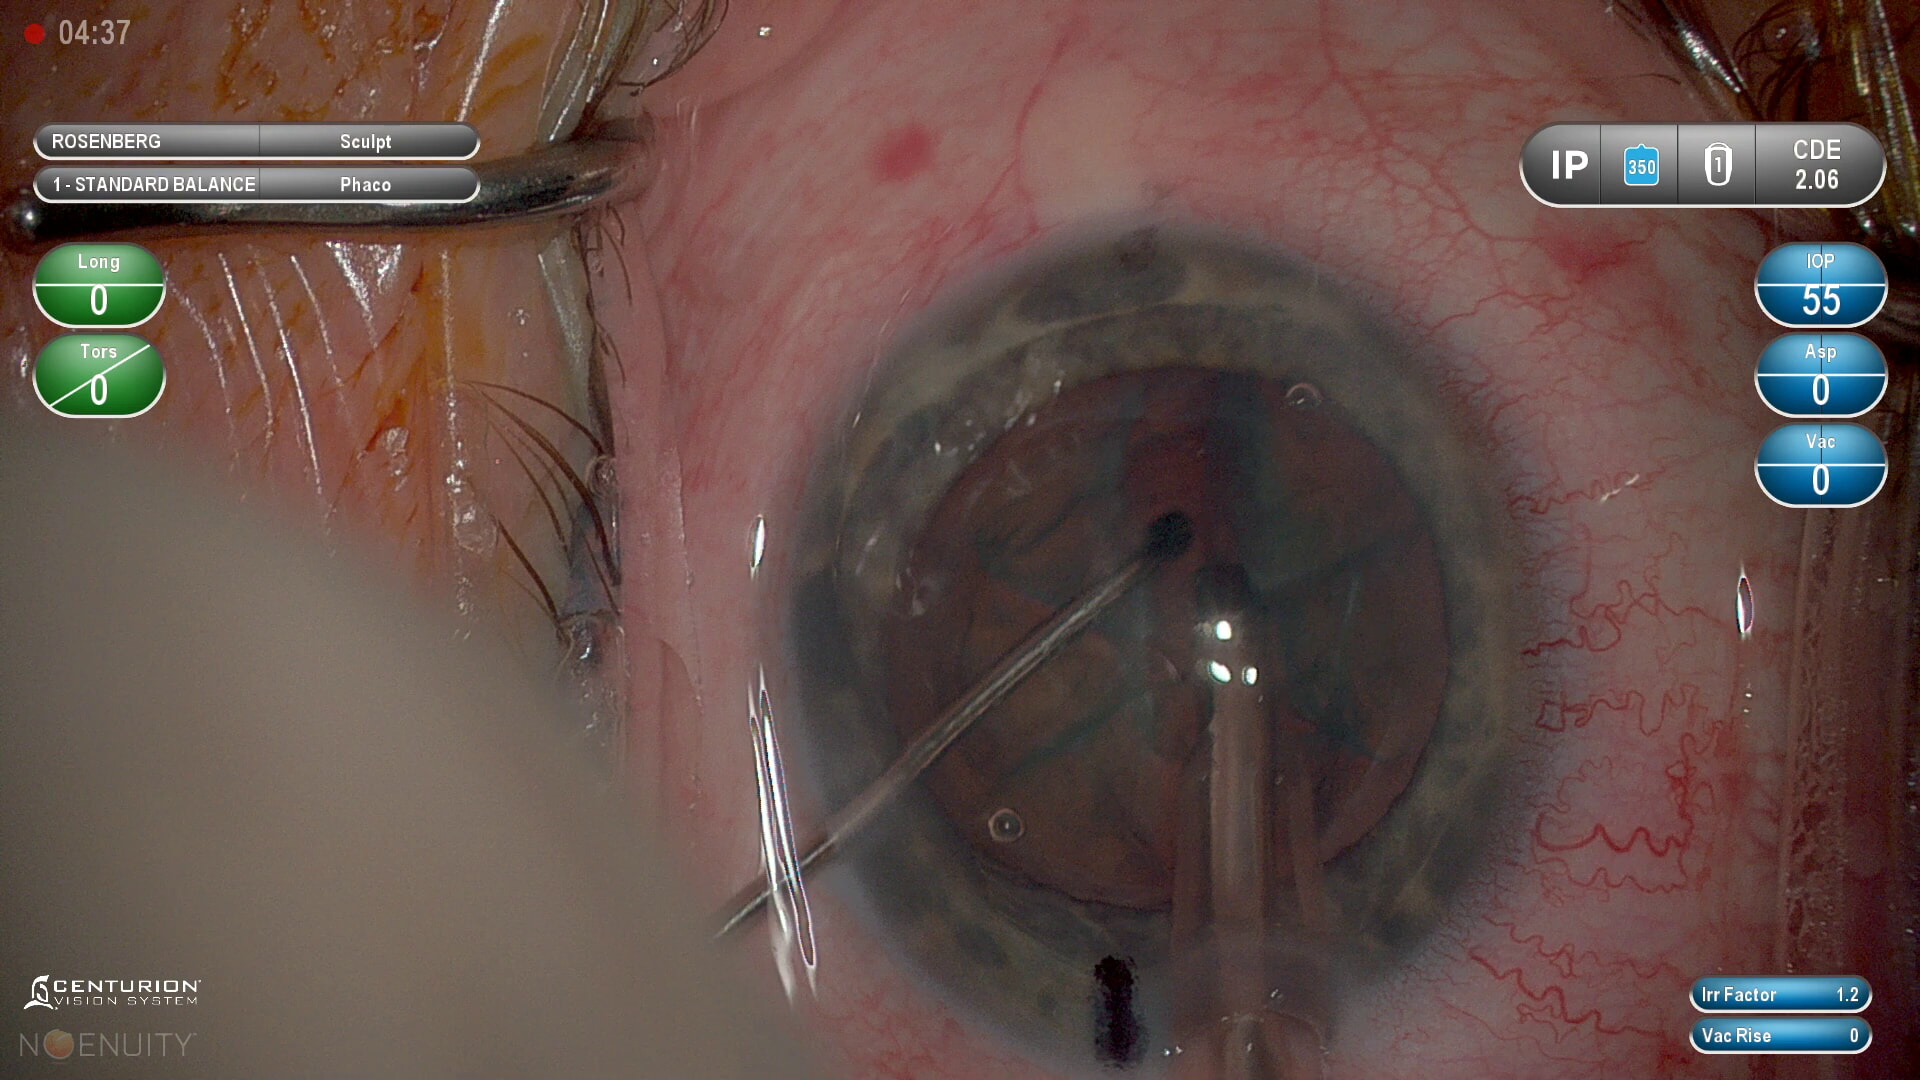iris: (799, 243, 1544, 1061)
pupil: (891, 370, 1452, 905)
